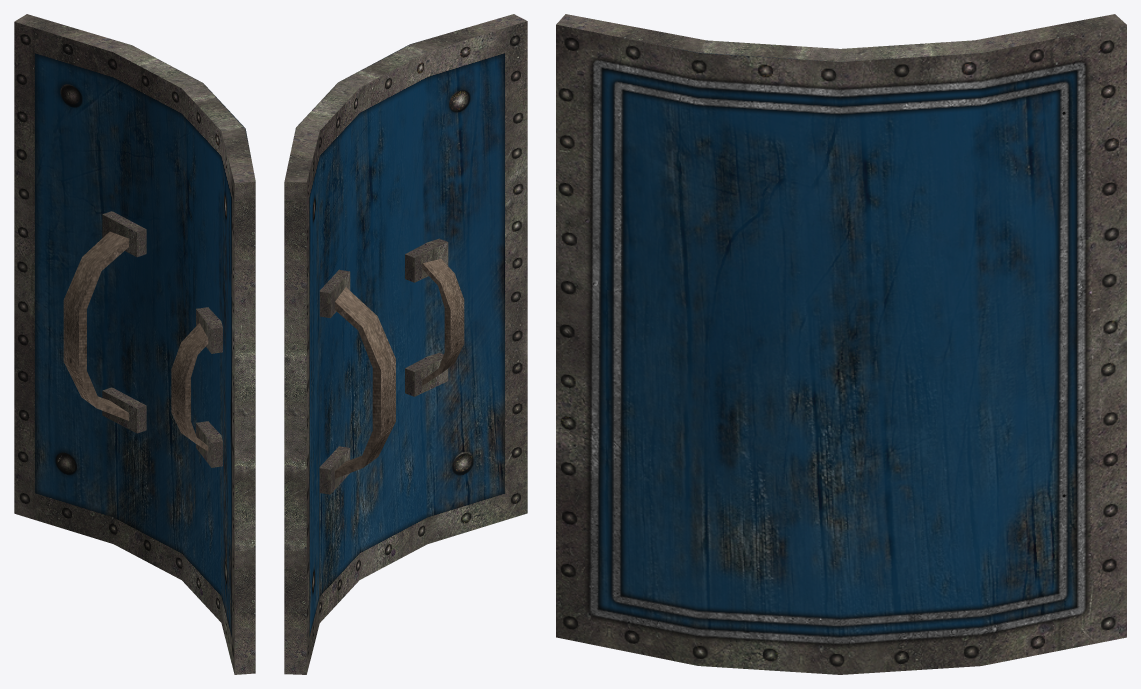
Rendered from shield_06.FBX.
3 renders of one model, left to right at view 1: azimuth 30°, elevation 25°; view 2: azimuth 150°, elevation 25°; view 3: azimuth 270°, elevation 25°, orthographic. The views are drawn at different scales.
Visible parts, largest first — view 1: square_shield_08; view 2: square_shield_08; view 3: square_shield_08.
Part boxes in pixels (left/top/right/bottom): square_shield_08: left=14, top=14, right=255, bottom=674; square_shield_08: left=284, top=14, right=527, bottom=674; square_shield_08: left=556, top=14, right=1126, bottom=674.
Bounding box in the file's own units: 14.1 × 72.51 × 61.2.
